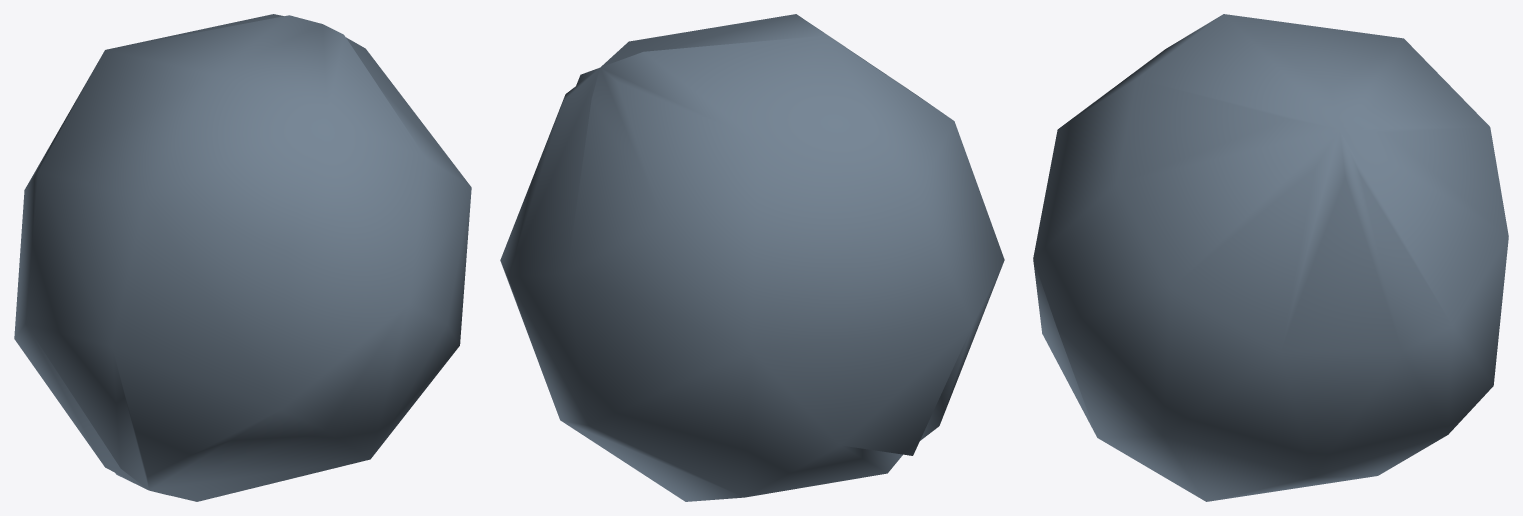
Rendered from boulder_slate_grey.obj.
3 renders of one model, left to right at view 1: azimuth 30°, elevation 25°; view 2: azimuth 150°, elevation 25°; view 3: azimuth 270°, elevation 25°, orthographic. The views are drawn at different scales.
Parts seen in each view (by area): view 1: pSphere1; view 2: pSphere1; view 3: pSphere1.
Boxes of the visible parts, <box> form: pSphere1: <box>14,14,471,501</box>; pSphere1: <box>500,14,1004,501</box>; pSphere1: <box>1033,14,1508,501</box>.
Bounding box in the file's own units: 1.96 × 1.83 × 1.83.
